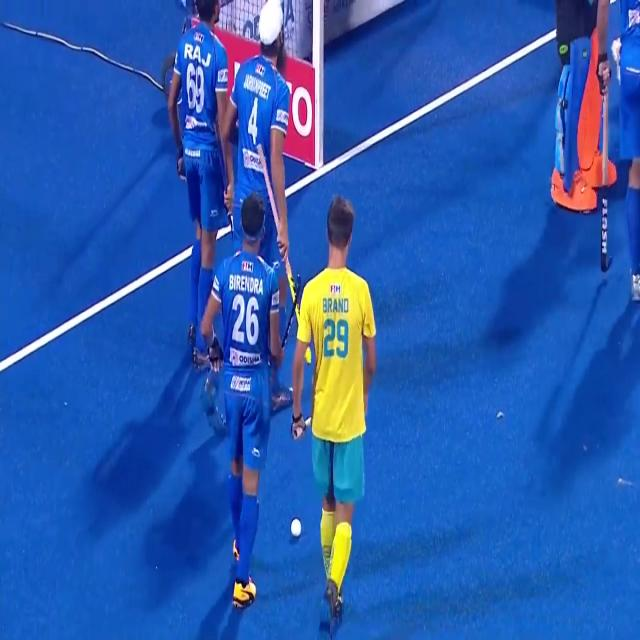ball: (286, 501, 308, 547)
